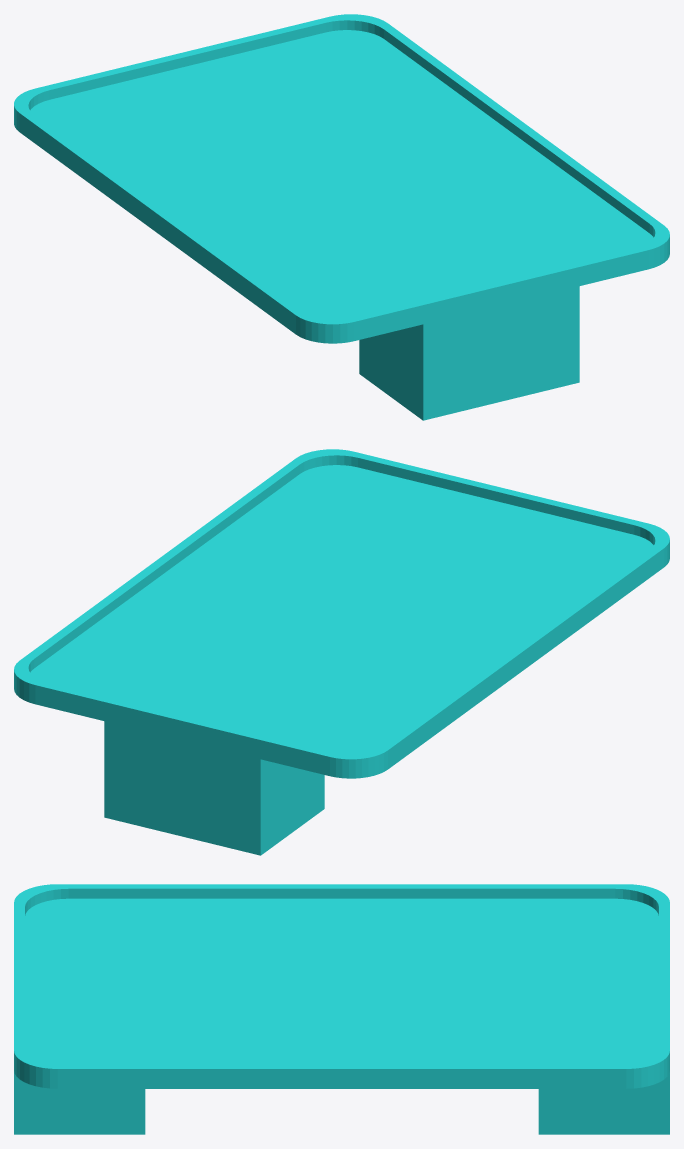
The model's file is tray.dae.
3 renders of one model, top to bottom at view 1: azimuth 30°, elevation 25°; view 2: azimuth 150°, elevation 25°; view 3: azimuth 270°, elevation 25°, orthographic. The views are drawn at different scales.
Visible parts, largest first — view 1: Tray; view 2: Tray; view 3: Tray.
Boxes of the visible parts, bbox=[...] form: Tray: bbox=[14, 14, 669, 420]; Tray: bbox=[14, 449, 669, 855]; Tray: bbox=[14, 884, 669, 1134].
Size of the model in its own units: 0.2 by 0.3 by 0.06.
